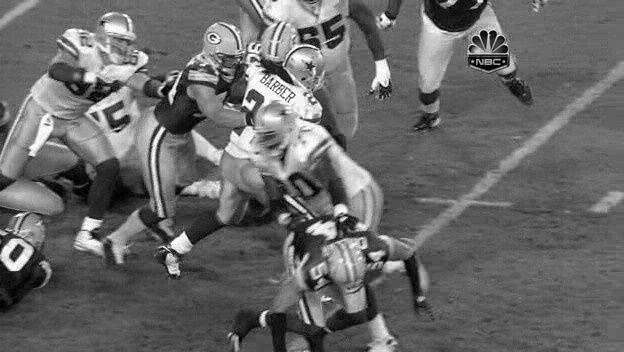person: (289, 47, 324, 92), (288, 47, 323, 92), (290, 47, 325, 92), (289, 46, 324, 91), (289, 48, 324, 93)
target_negative: (210, 3, 301, 328), (521, 70, 542, 237), (563, 43, 594, 138), (105, 323, 472, 328), (569, 186, 591, 231), (386, 211, 405, 261)
